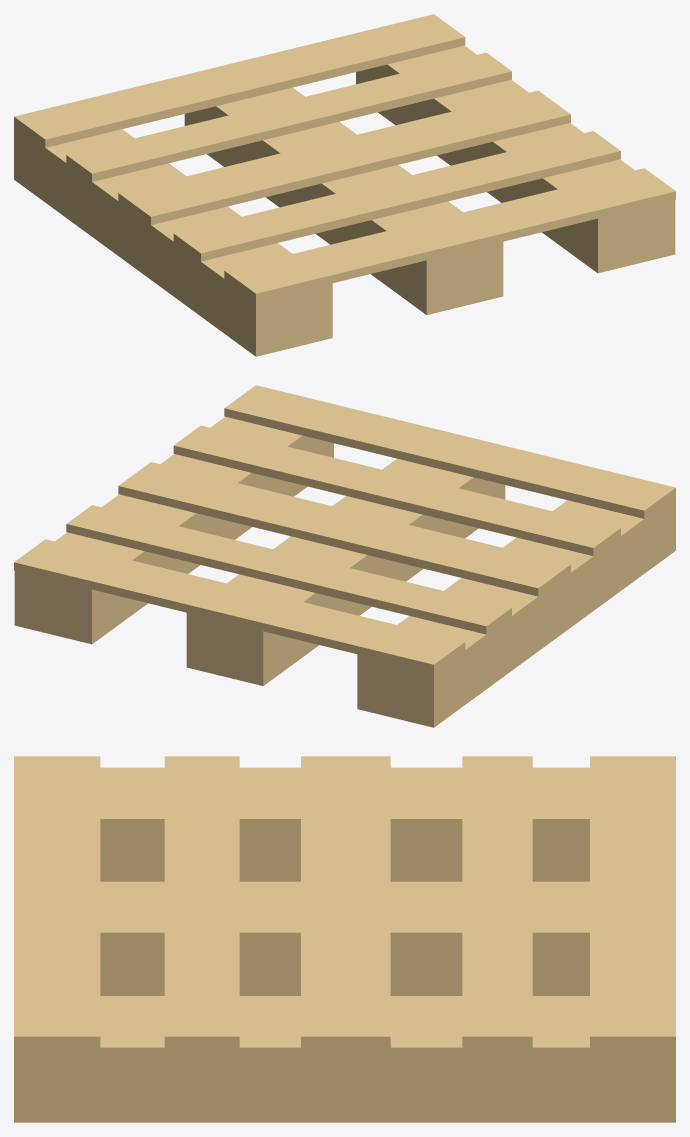
The model's file is palet.obj.
3 renders of one model, top to bottom at view 1: azimuth 30°, elevation 25°; view 2: azimuth 150°, elevation 25°; view 3: azimuth 270°, elevation 25°, orthographic. The views are drawn at different scales.
Visible parts, largest first — view 1: cube; view 2: cube; view 3: cube.
Part boxes in pixels (bbox=[...]): cube: bbox=[14, 14, 675, 356]; cube: bbox=[14, 385, 675, 727]; cube: bbox=[14, 756, 675, 1122].
Bounding box in the file's own units: 1 × 0.1438 × 1.
